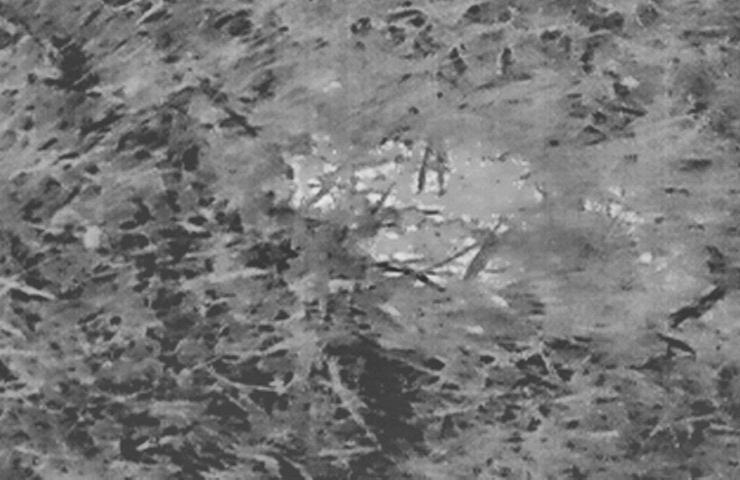landmines: (360, 129, 549, 231)
